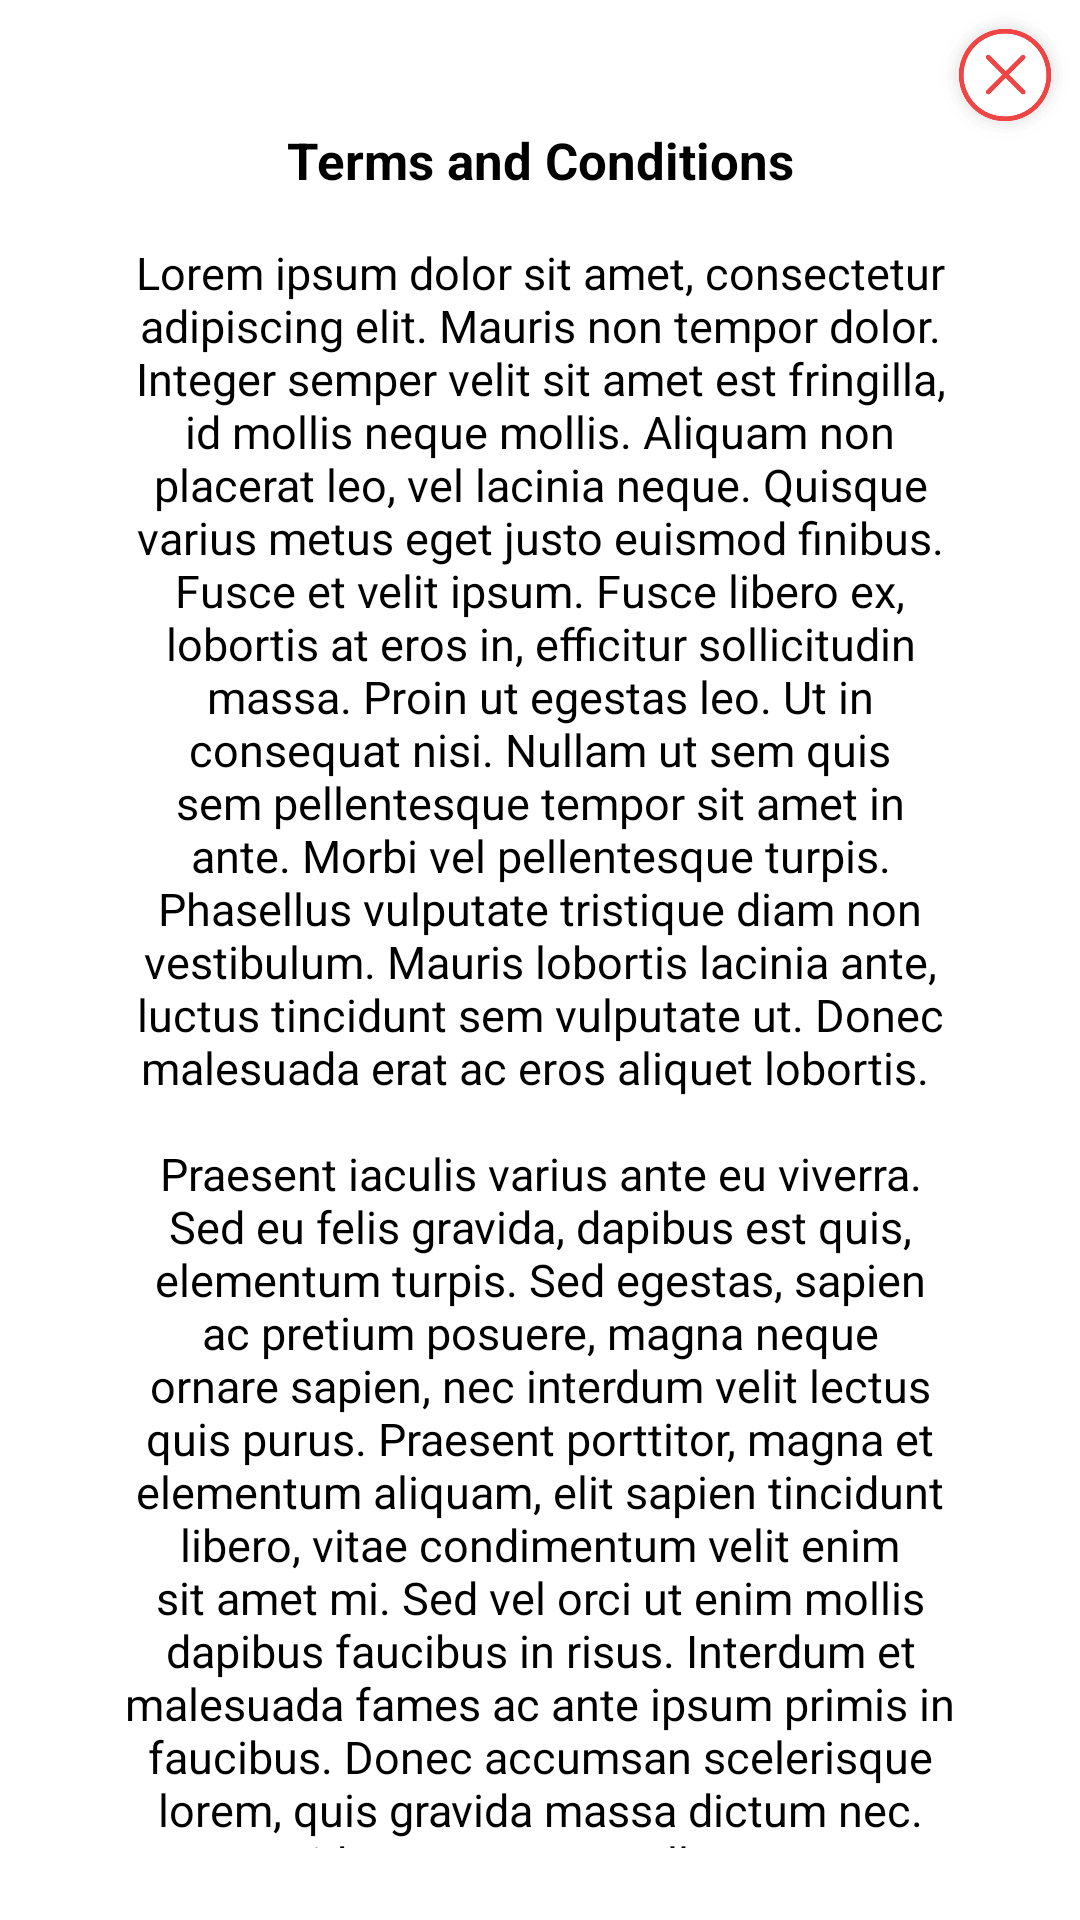

Icons on this 1080*1920 Android screen, each with the point to tap as (x,y):
close dialog: (1005,75)
